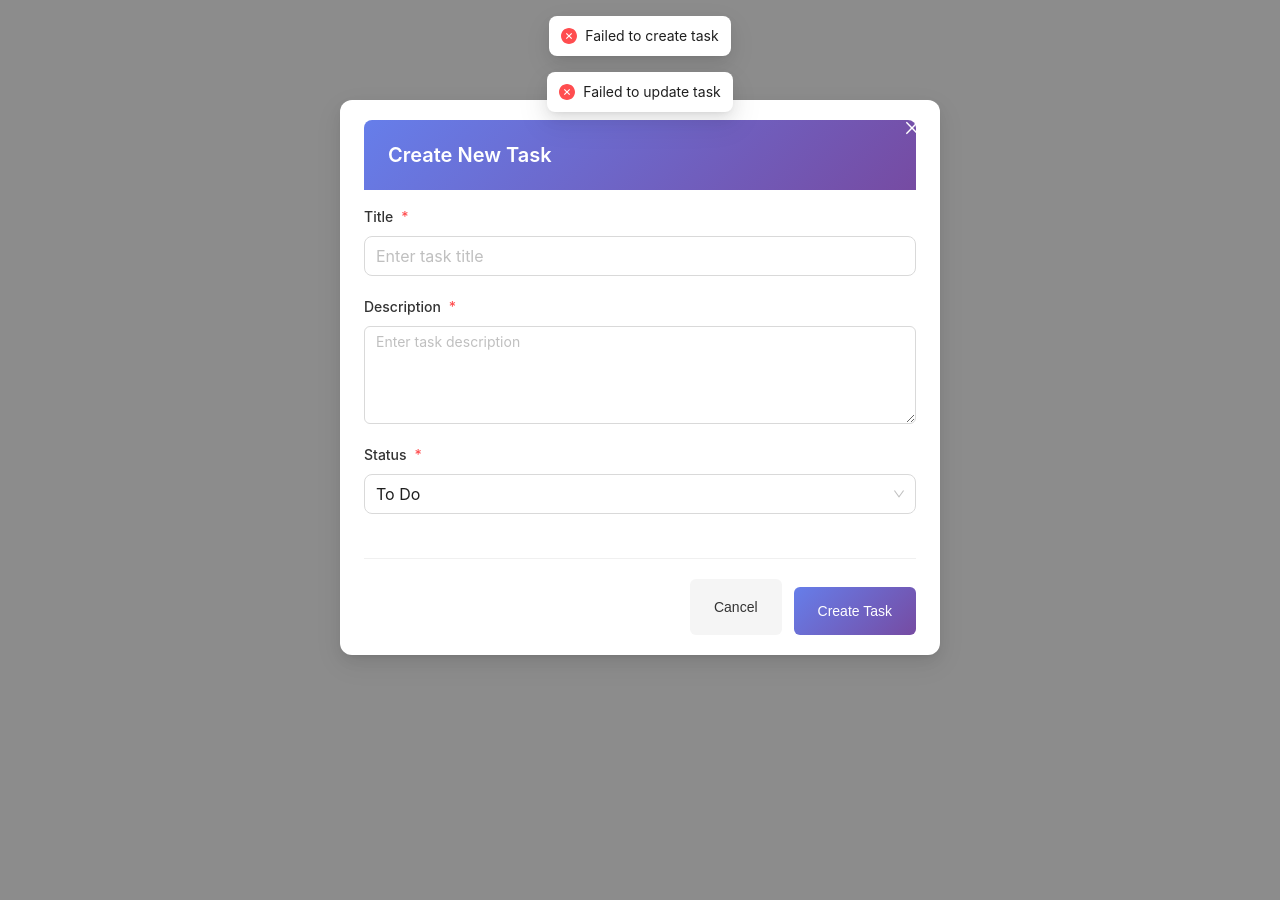
TaskModal › should disable buttons while loading
Type "New Task" into the field labelled "Title *". click: [640, 256]
box: [364,236,916,276]
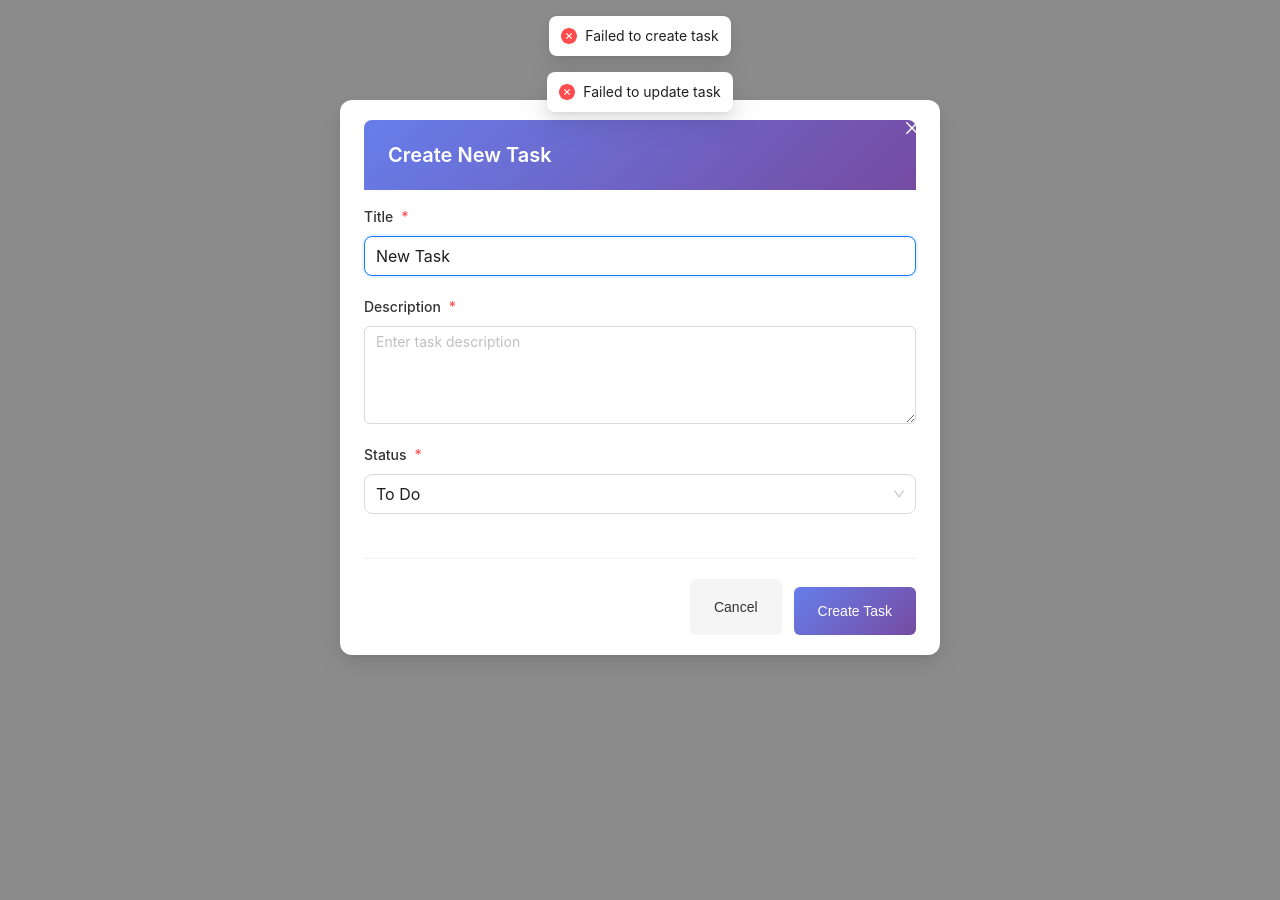
Type "New Description Here" into the text box labelled "Description *". click: [640, 375]
box: [364,326,916,424]
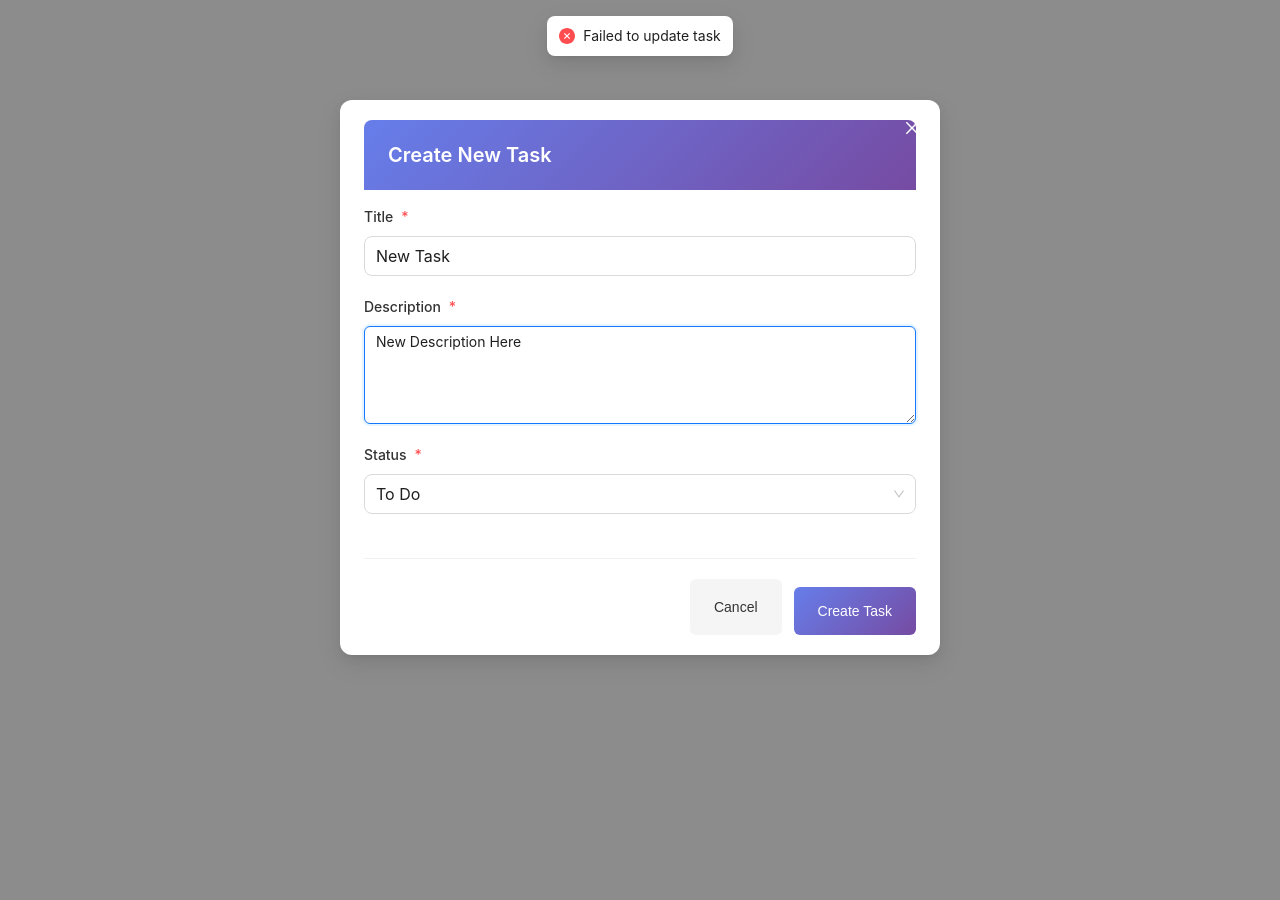
Click the button "Create Task". click: [855, 611]
box: [794,587,916,635]
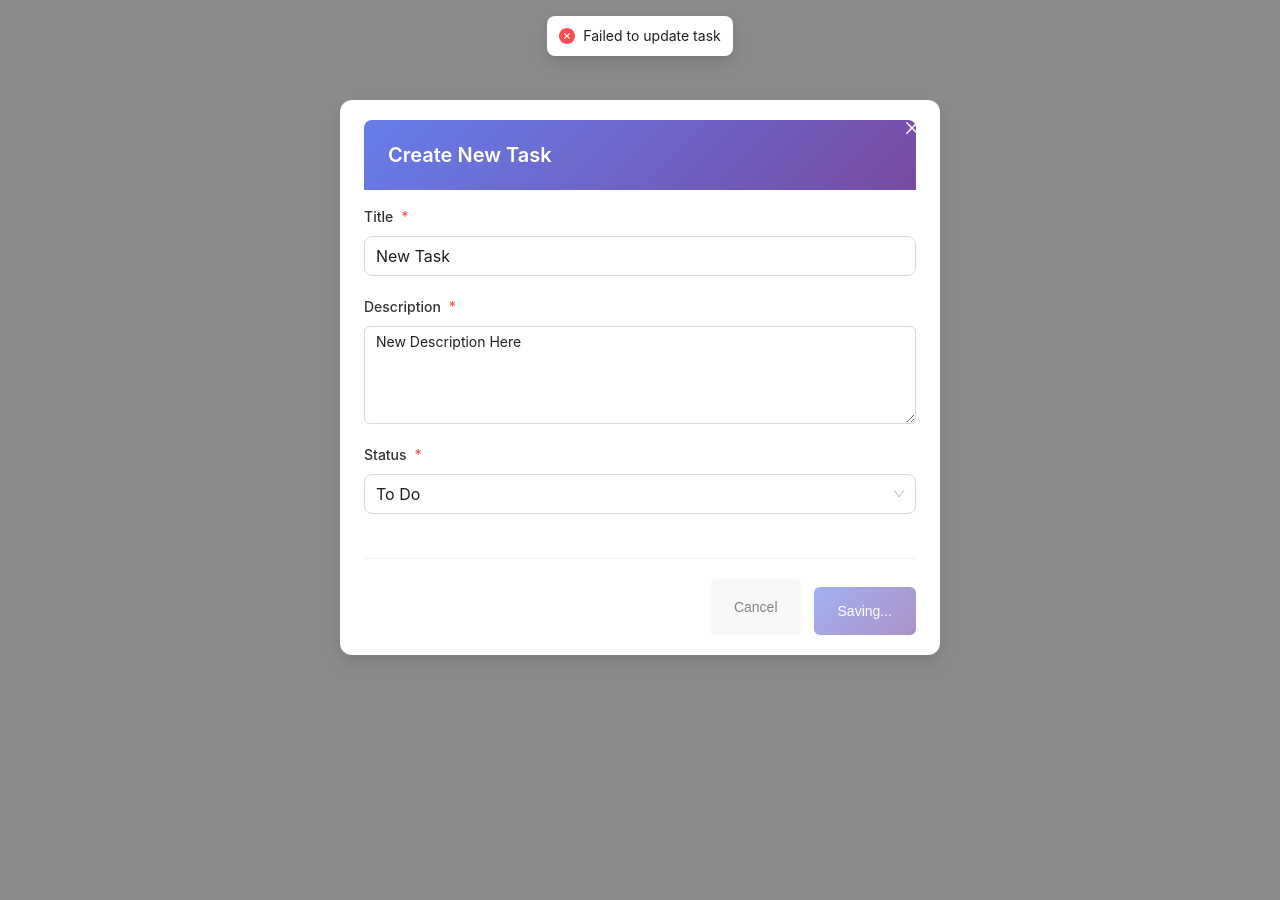
Expected: the button named "create task" is disabled, [814,587,916,635]
Expected: the button "Cancel" is disabled, [710,579,802,635]
